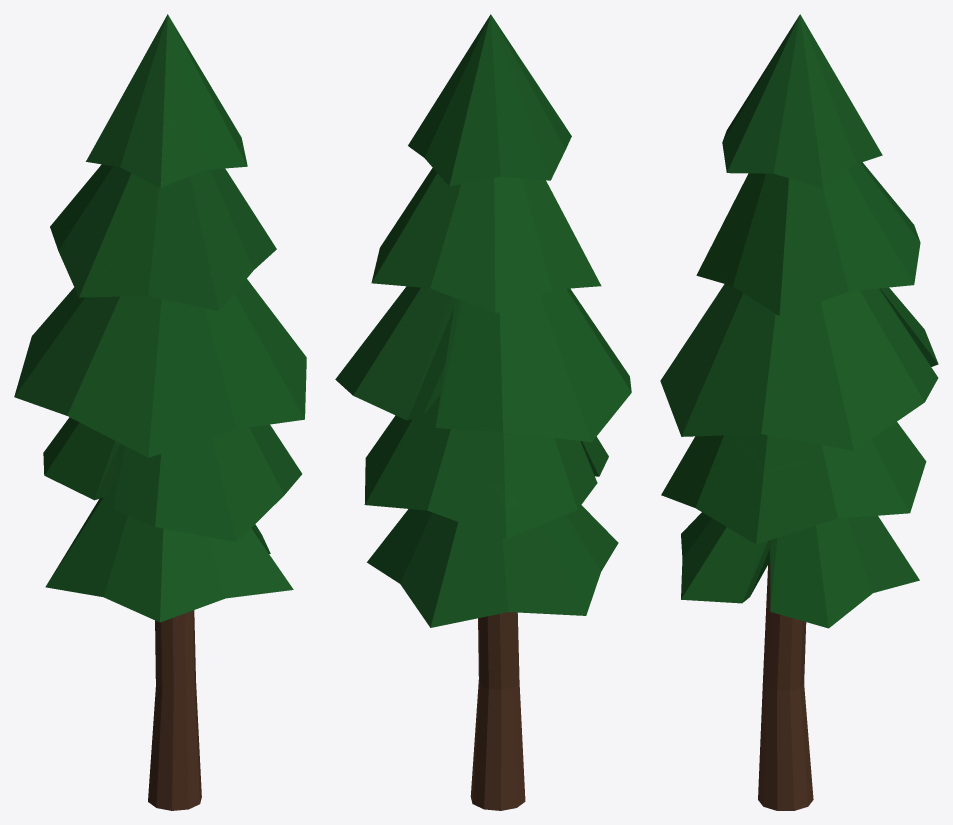
The model's file is pine04__mesh_LOD.fbx.
The picture shows the model from 3 angles, left to right: view 1: azimuth 30°, elevation 25°; view 2: azimuth 150°, elevation 25°; view 3: azimuth 270°, elevation 25°; orthographic projection.
Visible parts, largest first — view 1: pine04__mesh_LOD0; view 2: pine04__mesh_LOD0; view 3: pine04__mesh_LOD0.
Boxes of the visible parts, x1=… form: pine04__mesh_LOD0: x1=14, y1=14, x2=306, y2=810; pine04__mesh_LOD0: x1=335, y1=14, x2=631, y2=810; pine04__mesh_LOD0: x1=660, y1=14, x2=938, y2=810.
Size of what is drawn, in the model's own units: 425 by 1252 by 402.
1 material, 1 textured.
